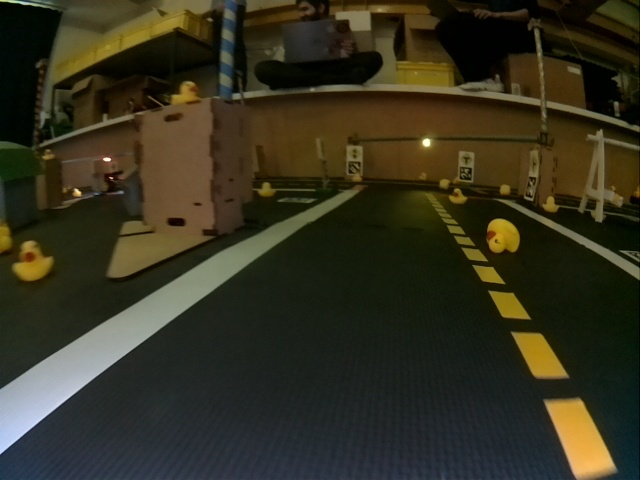Duckie: (14, 241, 53, 280), (486, 219, 517, 252), (171, 82, 197, 102), (450, 189, 466, 204), (543, 196, 557, 213), (258, 184, 274, 195), (500, 185, 509, 194), (43, 149, 52, 158), (440, 179, 446, 186)
Intersection sign: (529, 154, 537, 172), (460, 153, 472, 164)
QR code: (525, 176, 537, 199), (282, 196, 315, 203), (459, 166, 472, 181), (347, 161, 361, 174)
Signal sign: (348, 147, 360, 157)
